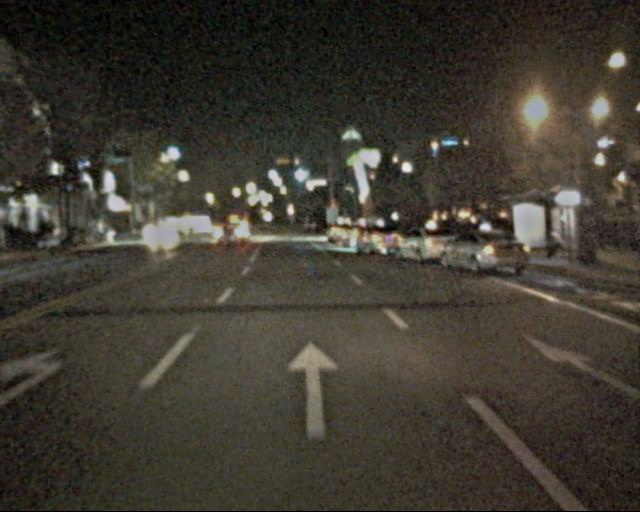person: (589, 210, 610, 262), (544, 229, 570, 262)
